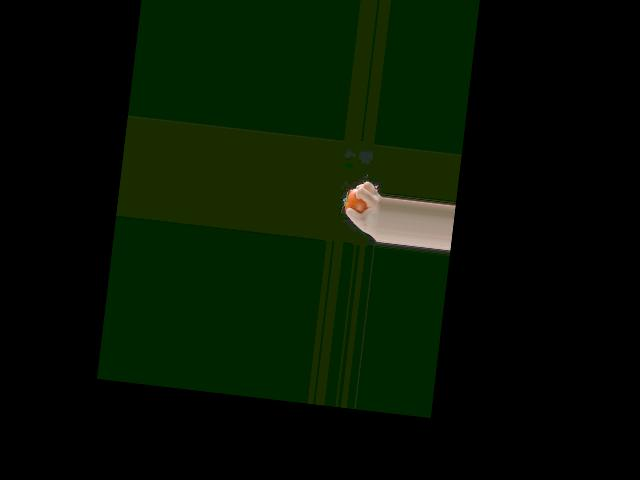tomato: (344, 188, 368, 214)
